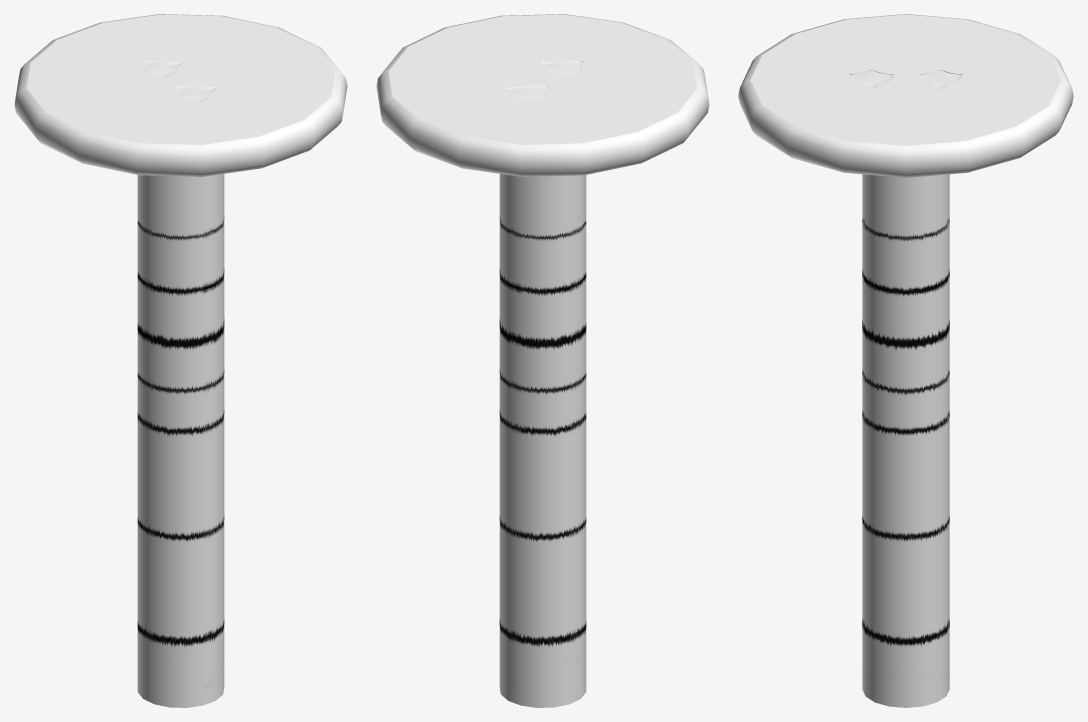
File: Figuurhouder eend.fbx
3 renders of one model, left to right at view 1: azimuth 30°, elevation 25°; view 2: azimuth 150°, elevation 25°; view 3: azimuth 270°, elevation 25°, orthographic.
Parts seen in each view (by area): view 1: Figuurhouder eend; view 2: Figuurhouder eend; view 3: Figuurhouder eend.
Part boxes in pixels (left/top/right/bottom): Figuurhouder eend: left=14, top=14, right=347, bottom=707; Figuurhouder eend: left=376, top=14, right=709, bottom=707; Figuurhouder eend: left=738, top=14, right=1073, bottom=707.
Size of the model in its own units: 55.56 by 111 by 55.56.
Materials: 1 (1 with a texture image).
